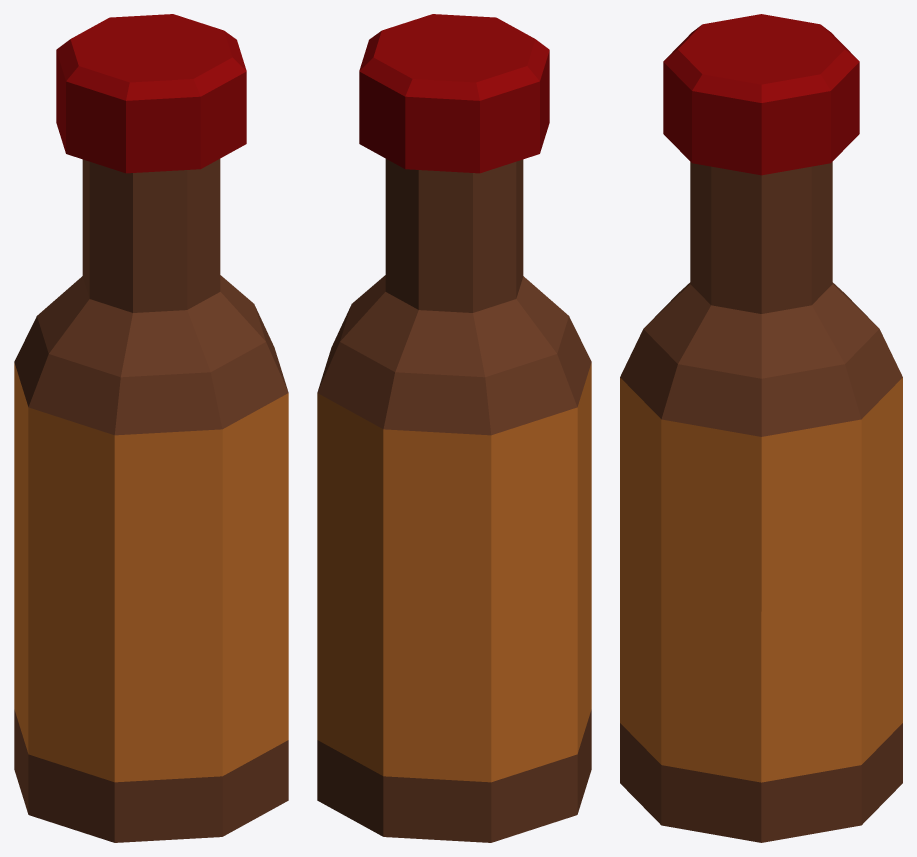
File: SpiceBottle.fbx
3 views of the same model, side by side, from view 1: azimuth 30°, elevation 25°; view 2: azimuth 150°, elevation 25°; view 3: azimuth 270°, elevation 25° (orthographic).
Parts seen in each view (by area): view 1: SpiceBottle; view 2: SpiceBottle; view 3: SpiceBottle.
Part boxes in pixels (box(x1,y1,x2,y2)): SpiceBottle: box(14, 14, 288, 842); SpiceBottle: box(317, 14, 591, 842); SpiceBottle: box(620, 14, 902, 842).
Size of the model in its own units: 50 by 143 by 50.
